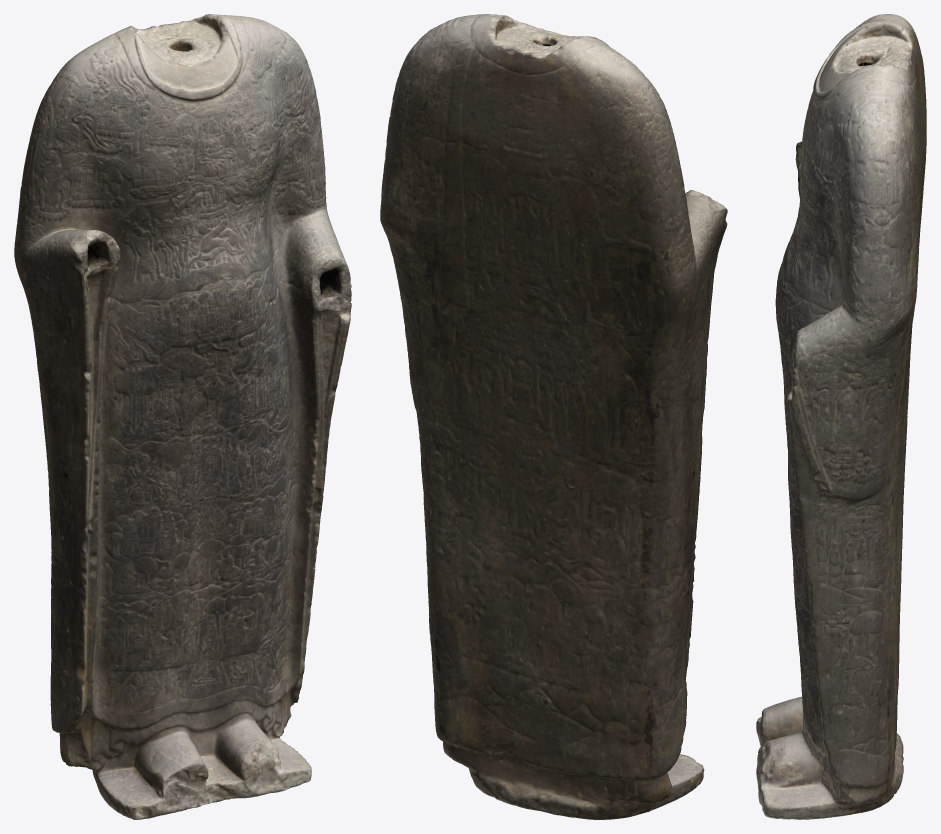
The model's file is cosmic_buddha.glb.
3 renders of one model, left to right at view 1: azimuth 30°, elevation 25°; view 2: azimuth 150°, elevation 25°; view 3: azimuth 270°, elevation 25°, orthographic. The views are drawn at different scales.
Bounding box in the file's own units: 636 × 1515 × 317.
Materials: 1 (1 with a texture image).
